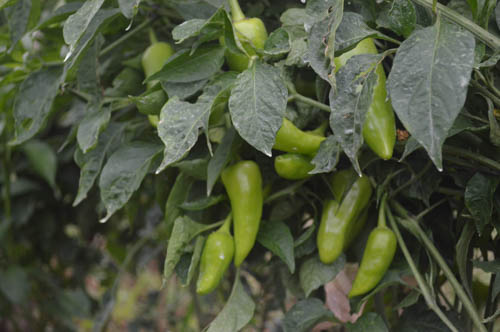ChiliPepper: (340, 43, 398, 162), (221, 160, 267, 266), (321, 172, 369, 258), (357, 227, 399, 300), (191, 230, 233, 296), (223, 17, 269, 74), (268, 151, 328, 181), (268, 126, 327, 153), (139, 47, 175, 77)
